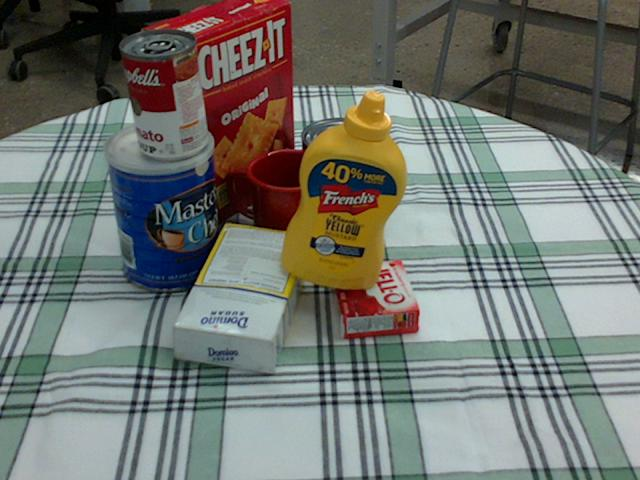cracker_box: (141, 0, 293, 228)
gelatin_box: (329, 259, 418, 338)
master_chef_can: (102, 119, 222, 292)
mug: (227, 146, 332, 249)
mustard_bottle: (280, 89, 407, 289)
potted_meat_can: (286, 134, 383, 215)
sugar_box: (173, 221, 311, 372)
tomato_soup_can: (121, 28, 207, 158)
tuna_fish_can: (299, 118, 376, 178)
